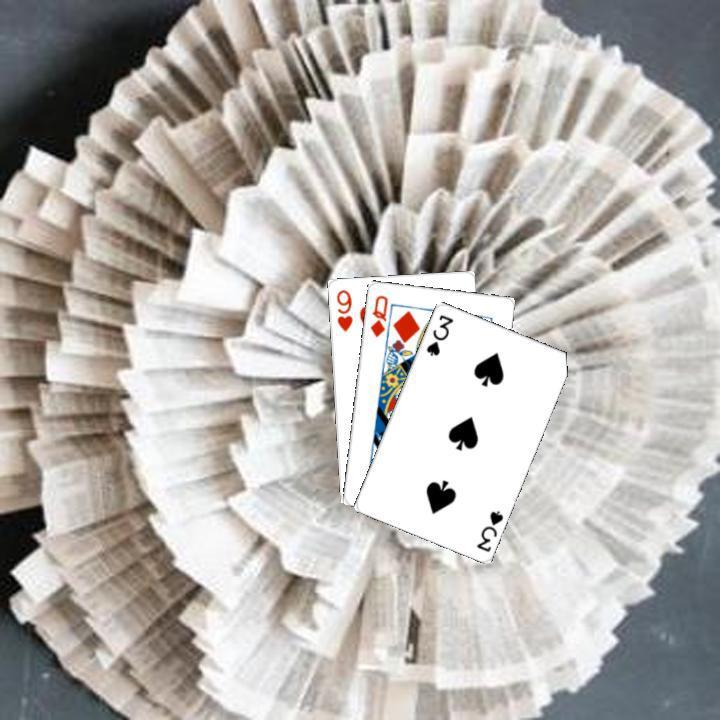3: (472, 506, 505, 554), (422, 310, 455, 357)
9: (331, 285, 354, 333)
Q: (365, 290, 390, 339)
